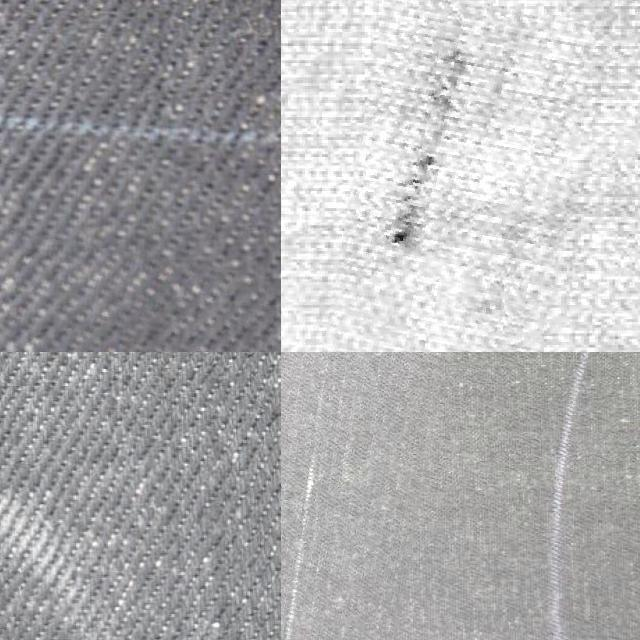Thread_other: (338, 0, 582, 352), (281, 352, 455, 640), (0, 242, 281, 352)
